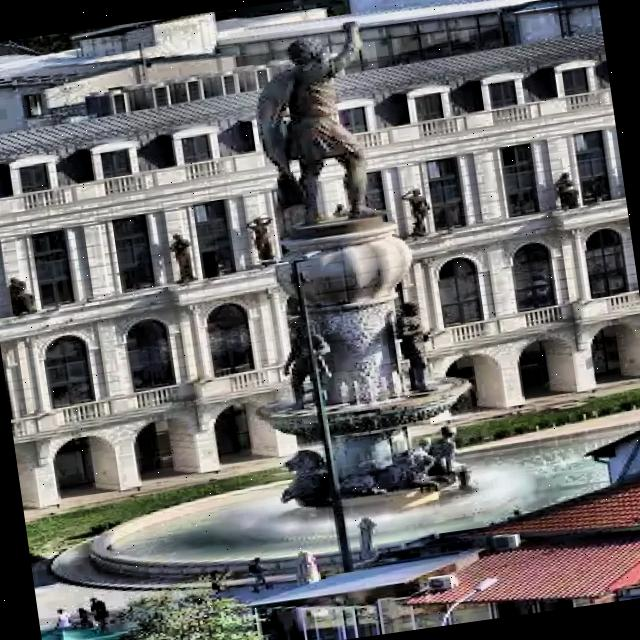Philip II of Macedonia: (210, 8, 475, 524)
